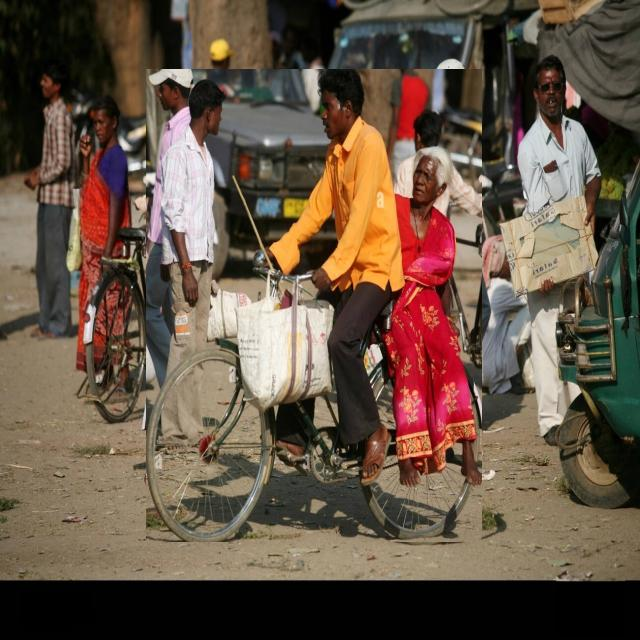bicycle: (146, 70, 481, 542), (80, 110, 232, 422)
